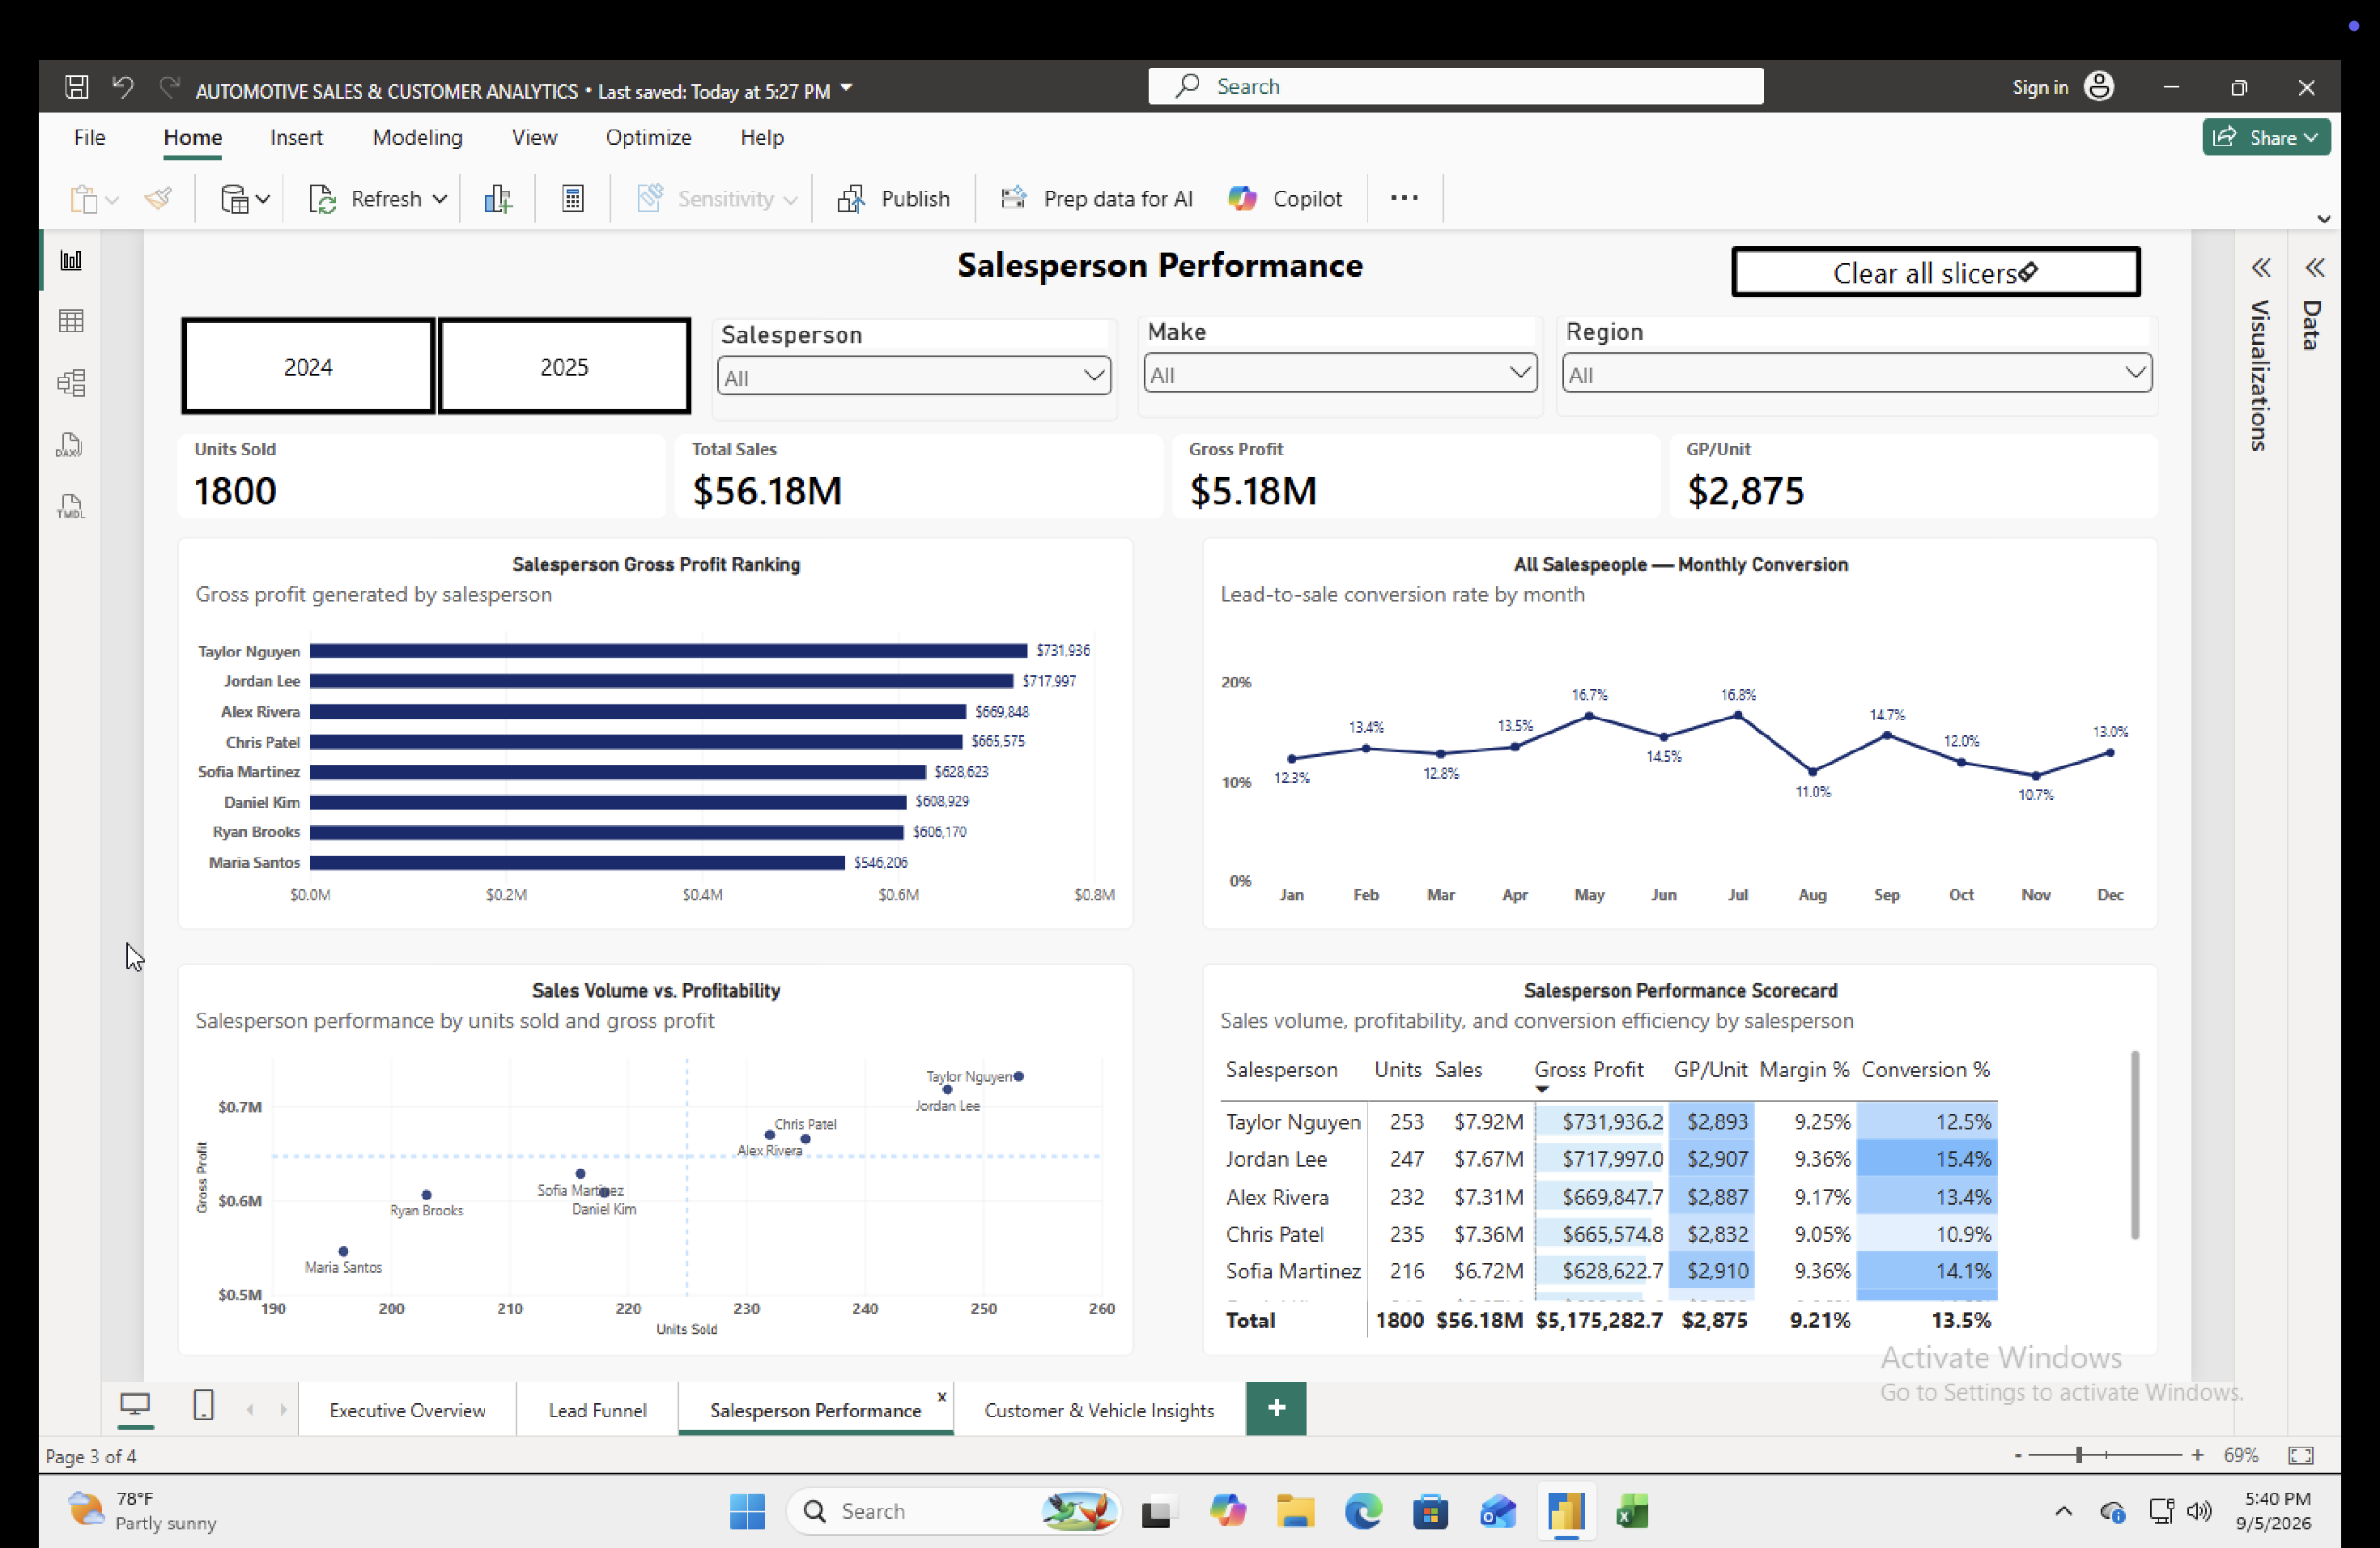

Layout of this report page (visuals, bound fields, positions):
{"tool":"powerbi","page":{"name":"Salesperson Performance","canvas":[1920,1080],"ordinal":2},"visuals":[{"type":"slicer","fields":{"Values":["DimSalesPerson.Salesperson"]},"box":[532.3,83.6,381,95.6],"z":0,"group":"g1"},{"type":"cardVisual","fields":{"Data":["FactSales.Unit Sold","FactSales.Total Sales","FactSales.Total Gross Profit","FactSales.Gross Profit Per Unit"]},"box":[32,192,1856,80],"z":0},{"type":"textbox","box":[762.4,10.5,395.9,52.2],"z":1000},{"type":"slicer","fields":{"Values":["FactSales.Make"]},"box":[931.8,80.8,381,95.6],"z":1000,"group":"g1"},{"type":"slicer","fields":{"Values":["DimDate.Year"]},"box":[14.1,80.8,518.2,94.9],"z":2000},{"type":"slicer","fields":{"Values":["FactSales.Region"]},"box":[1323.4,80.8,565.1,94.9],"z":2000,"group":"g1"},{"type":"actionButton","box":[1488,16,384,48],"z":3000},{"type":"clusteredBarChart","title":"Salesperson Gross Profit Ranking","fields":{"Category":["DimSalesPerson.Salesperson"],"Y":["FactSales.Total Gross Profit"]},"box":[32,288,896,368],"z":4000},{"type":"lineChart","fields":{"Category":["DimDate.Month"],"Y":["FactLeads.Lead-to-Sale %"]},"box":[992,288,896,368],"z":5000},{"type":"scatterChart","title":"Sales Volume vs. Profitability","fields":{"X":["FactSales.Unit Sold"],"Y":["FactSales.Total Gross Profit"],"Category":["DimSalesPerson.Salesperson"]},"box":[32,688,896,368],"z":6000},{"type":"pivotTable","title":"Salesperson Performance Scorecard","fields":{"Rows":["DimSalesPerson.Salesperson"],"Values":["FactSales.Unit Sold","FactSales.Total Sales","FactSales.Total Gross Profit","FactSales.Gross Profit Per Unit","FactSales.Gross Margin %","FactLeads.Lead-to-Sale %"]},"box":[992,688,896,368],"z":7000},{"type":"group","id":"g1","title":"Group 2","box":[532.3,80.8,1356.1,98.4],"z":8000}]}

Visuals, with their boxes on the page's 1920x1080 design canvas (x1, y1, x2, y2). These are canvas units, not pixel positions in the 2380x1548 screenshot, which may show the page scaled, cropped or inside an application window:
slicer - DimSalesPerson.Salesperson: (left=532, top=84, right=913, bottom=179)
cardVisual - FactSales.Unit Sold x FactSales.Total Sales: (left=32, top=192, right=1888, bottom=272)
textbox: (left=762, top=10, right=1158, bottom=63)
slicer - FactSales.Make: (left=932, top=81, right=1313, bottom=176)
slicer - DimDate.Year: (left=14, top=81, right=532, bottom=176)
slicer - FactSales.Region: (left=1323, top=81, right=1888, bottom=176)
actionButton: (left=1488, top=16, right=1872, bottom=64)
"Salesperson Gross Profit Ranking" clusteredBarChart: (left=32, top=288, right=928, bottom=656)
lineChart - DimDate.Month x FactLeads.Lead-to-Sale %: (left=992, top=288, right=1888, bottom=656)
"Sales Volume vs. Profitability" scatterChart: (left=32, top=688, right=928, bottom=1056)
"Salesperson Performance Scorecard" pivotTable: (left=992, top=688, right=1888, bottom=1056)
"Group 2" group: (left=532, top=81, right=1888, bottom=179)
